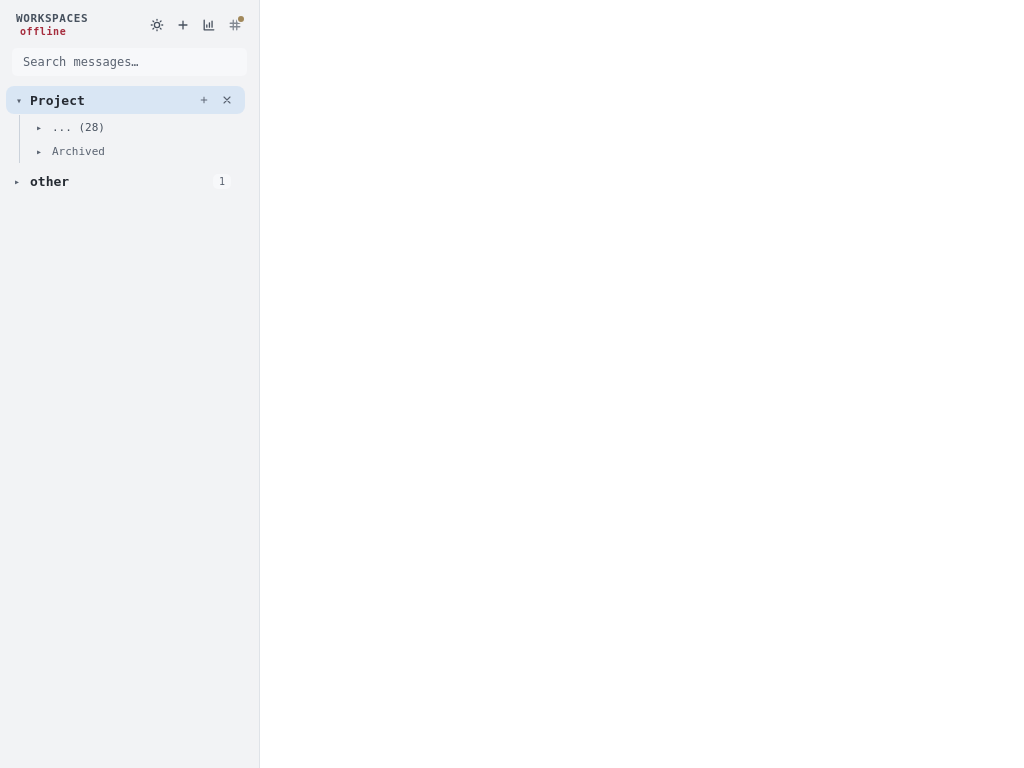
Test: keeps disclosure labels, hit boxes and neighboring row edges stable across overflow
This screenshot has width=1024, height=768.
Later steps or results of the test are not shown.
Click the text "Archived".
click(78, 152)  # box [52,145,105,158]
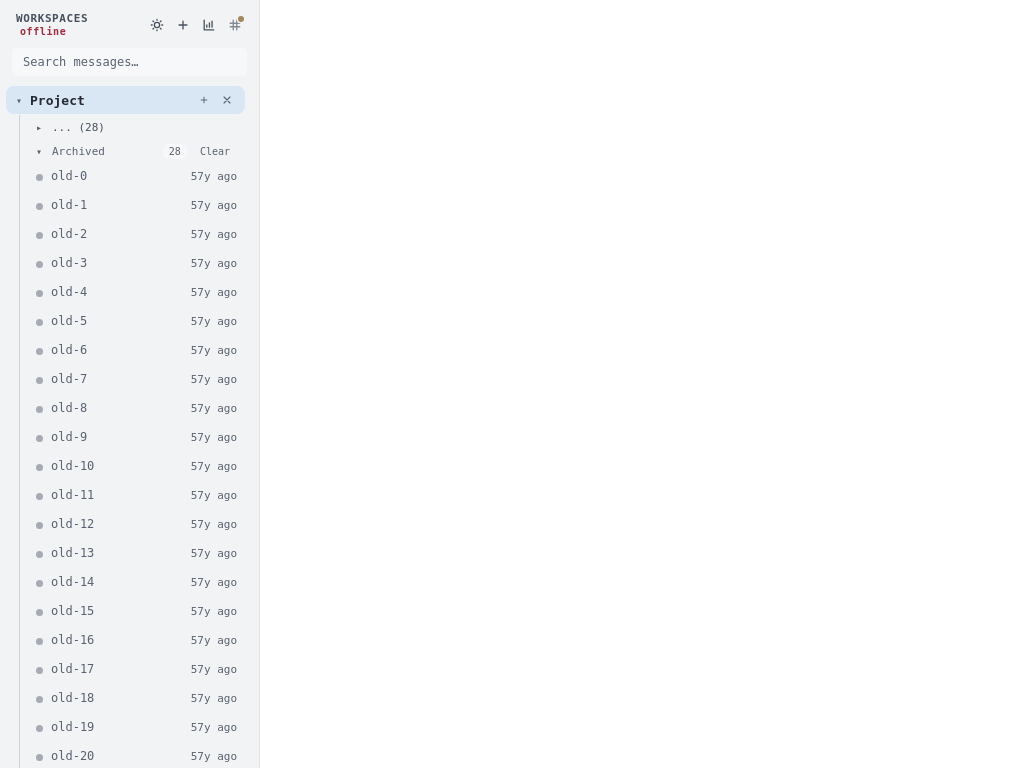
Expected: the button with class "ws-archive-toggle" is expanded, [26,140,245,163]
Click the text "Archived".
click(78, 152)  # box [52,145,105,158]
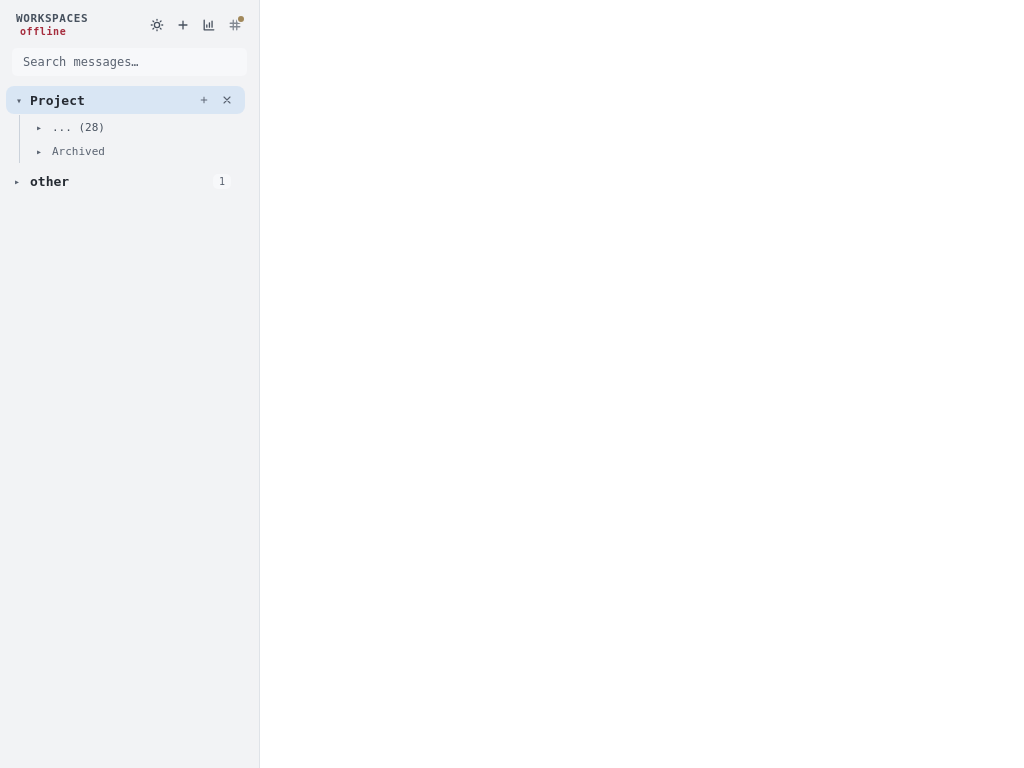
Expected: the button with class "ws-archive-toggle" is collapsed, [36,145,105,158]
Click the text "... (28)".
click(78, 127)  # box [52,120,105,134]
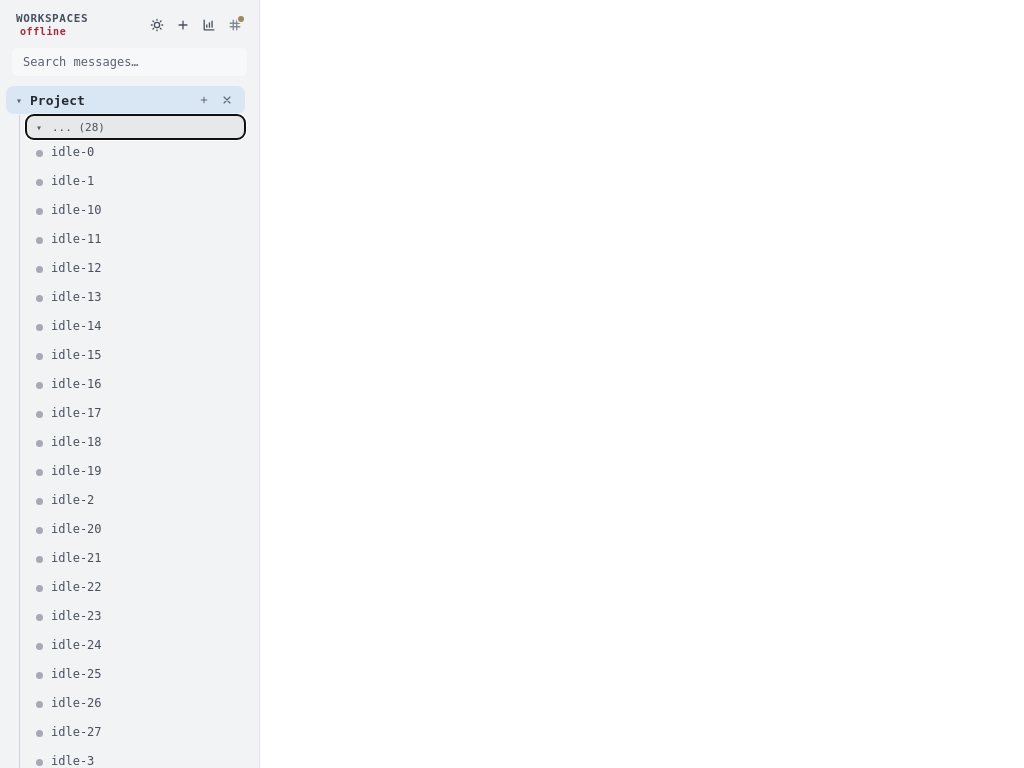
Expected: the button with class "ws-idle-toggle" is expanded, [26,115,245,139]
Click the text "... (28)".
click(78, 127)  # box [52,120,105,134]
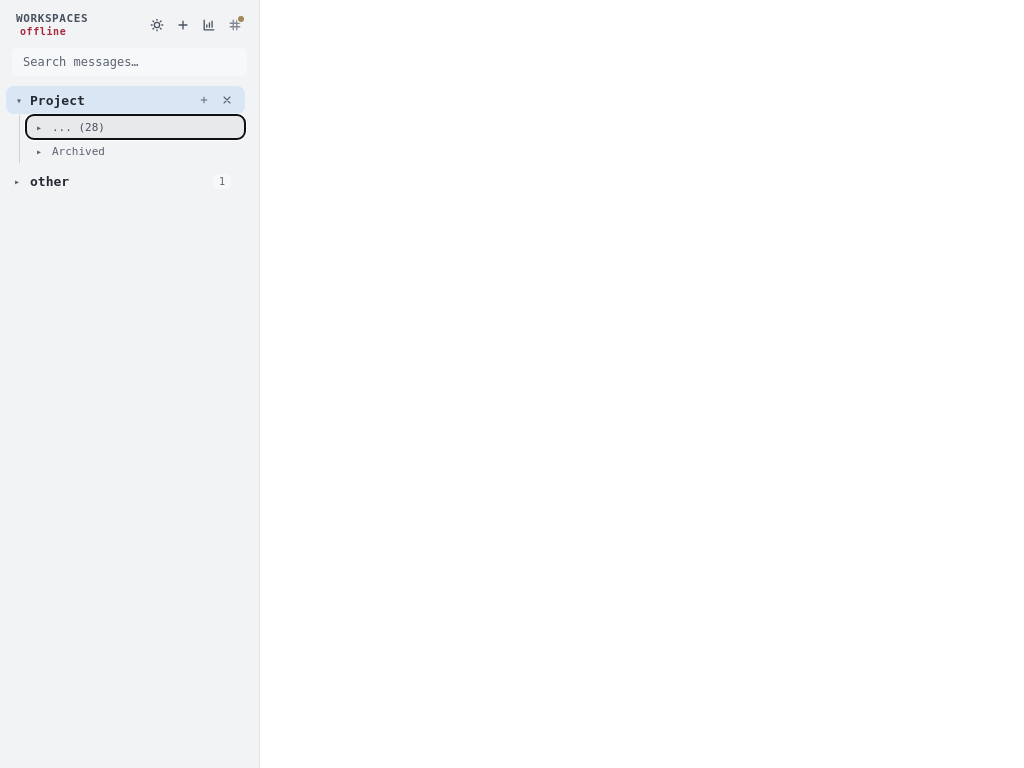
Expected: the button with class "ws-idle-toggle" is collapsed, [26,115,245,139]
